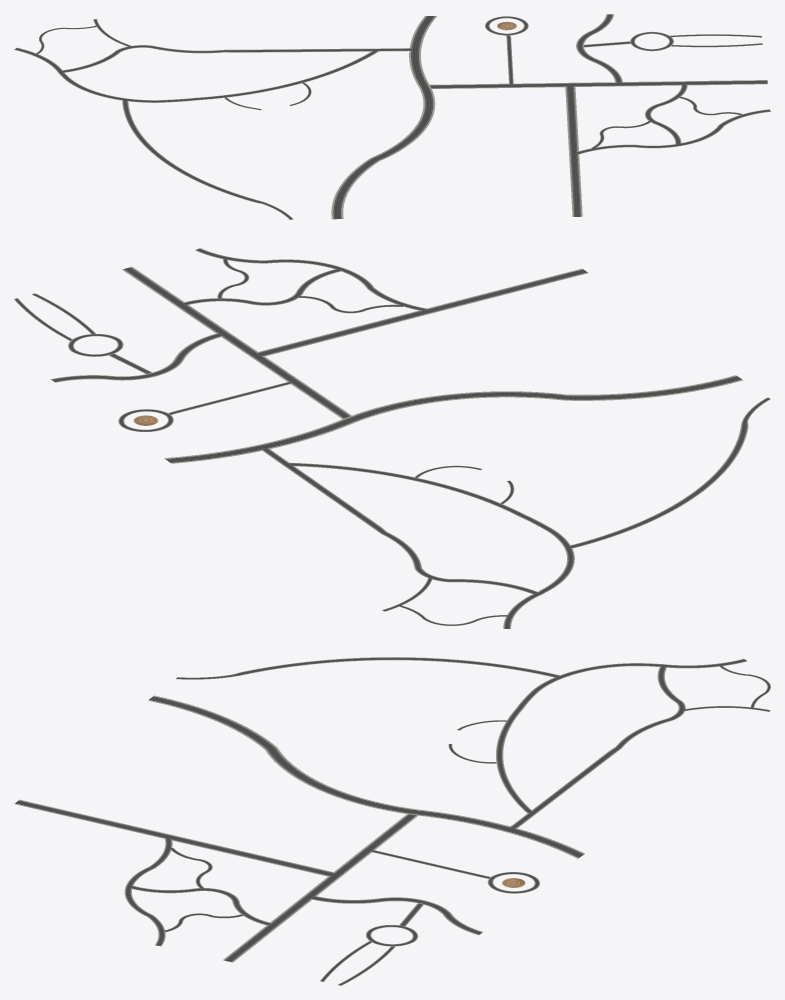
Rendered from gonglu.gltf.
3 renders of one model, top to bottom at view 1: azimuth 30°, elevation 25°; view 2: azimuth 150°, elevation 25°; view 3: azimuth 270°, elevation 25°, orthographic. The views are drawn at different scales.
Parts seen in each view (by area): view 1: Plane009, Plane010, Plane003, Plane038, Plane004, Plane039, Plane005, Plane011, Plane036; view 2: Plane009, Plane010, Plane003, Plane004, Plane038, Plane005, Plane039, Plane011; view 3: Plane009, Plane010, Plane003, Plane038, Plane004, Plane005, Plane039, Plane011, Plane036.
Part boxes in pixels (bbox=[...]): Plane009: bbox=[430, 80, 767, 88]; Plane010: bbox=[565, 86, 582, 216]; Plane003: bbox=[370, 83, 435, 160]; Plane038: bbox=[122, 100, 260, 203]; Plane004: bbox=[409, 16, 436, 85]; Plane039: bbox=[163, 51, 378, 102]; Plane005: bbox=[331, 158, 379, 219]; Plane011: bbox=[223, 48, 411, 52]; Plane036: bbox=[58, 72, 164, 102]; Plane009: bbox=[122, 266, 351, 418]; Plane010: bbox=[256, 268, 588, 356]; Plane003: bbox=[339, 391, 565, 423]; Plane004: bbox=[164, 420, 351, 463]; Plane038: bbox=[569, 422, 748, 548]; Plane005: bbox=[565, 375, 742, 400]; Plane039: bbox=[288, 462, 550, 529]; Plane011: bbox=[261, 448, 387, 534]; Plane009: bbox=[223, 814, 417, 962]; Plane010: bbox=[14, 799, 334, 876]; Plane003: bbox=[265, 747, 422, 815]; Plane038: bbox=[234, 657, 560, 677]; Plane004: bbox=[419, 810, 584, 858]; Plane005: bbox=[148, 695, 277, 749]; Plane039: bbox=[496, 692, 536, 813]; Plane011: bbox=[509, 747, 621, 828]; Plane036: bbox=[530, 663, 662, 693].
Size of the model in its own units: 8479 by 8.3 by 8254.
Materials: 44 (44 with a texture image).
